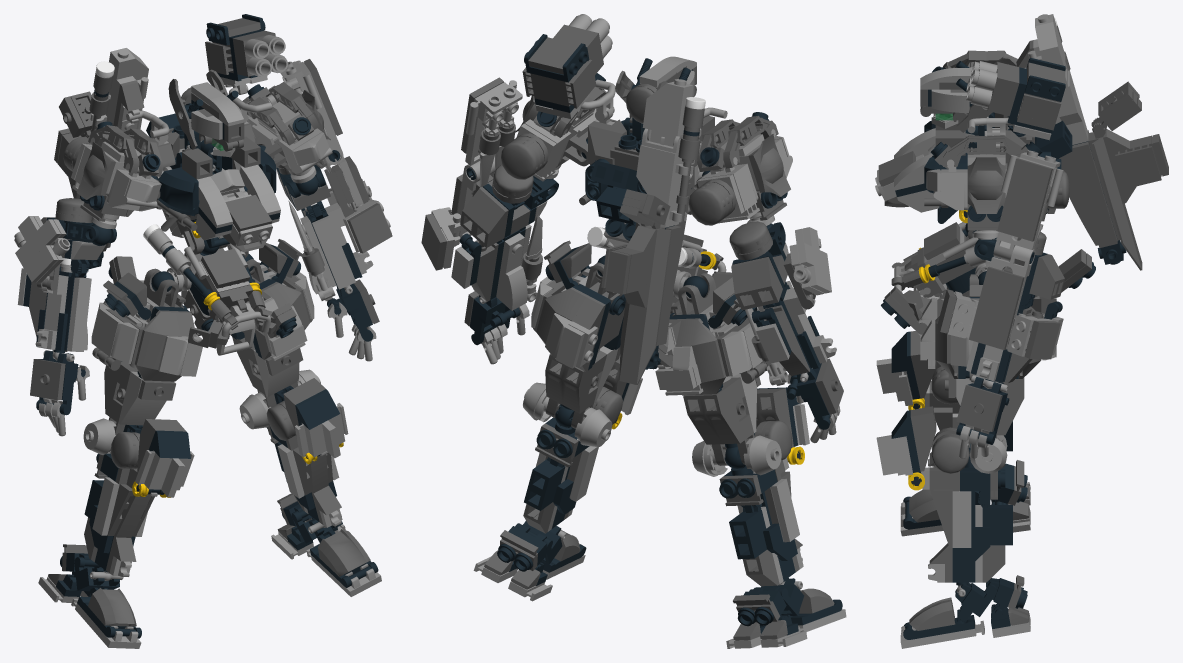
The model's file is mctn-01-vermillion.dae.
3 renders of one model, left to right at view 1: azimuth 30°, elevation 25°; view 2: azimuth 150°, elevation 25°; view 3: azimuth 270°, elevation 25°, orthographic. The views are drawn at different scales.
Size of the model in its own units: 455 by 311 by 646.
